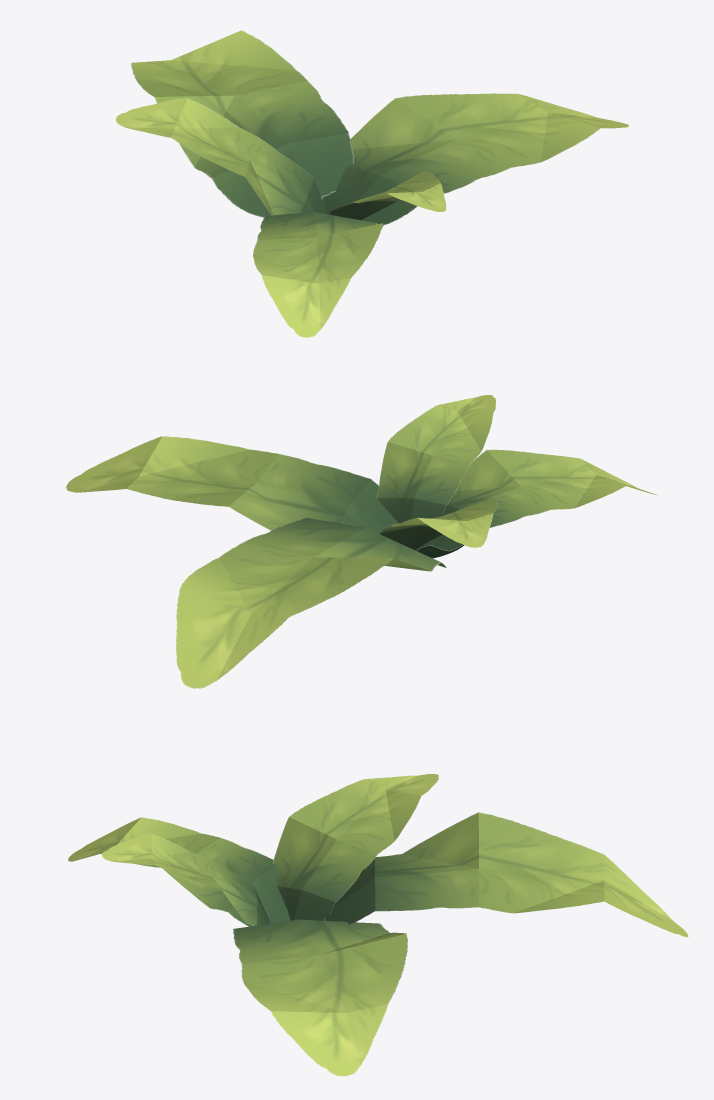
File: Blätter.fbx
The picture shows the model from 3 angles, top to bottom: view 1: azimuth 30°, elevation 25°; view 2: azimuth 150°, elevation 25°; view 3: azimuth 270°, elevation 25°; orthographic projection. The views are drawn at different scales.
Visible parts, largest first — view 1: Plane.003; view 2: Plane.003; view 3: Plane.003.
Boxes of the visible parts, x1,y1,x2,y2 form: Plane.003: [115, 30, 629, 337]; Plane.003: [66, 395, 657, 688]; Plane.003: [68, 774, 688, 1076].
Bounding box in the file's own units: 55.49 × 12.25 × 61.63.
